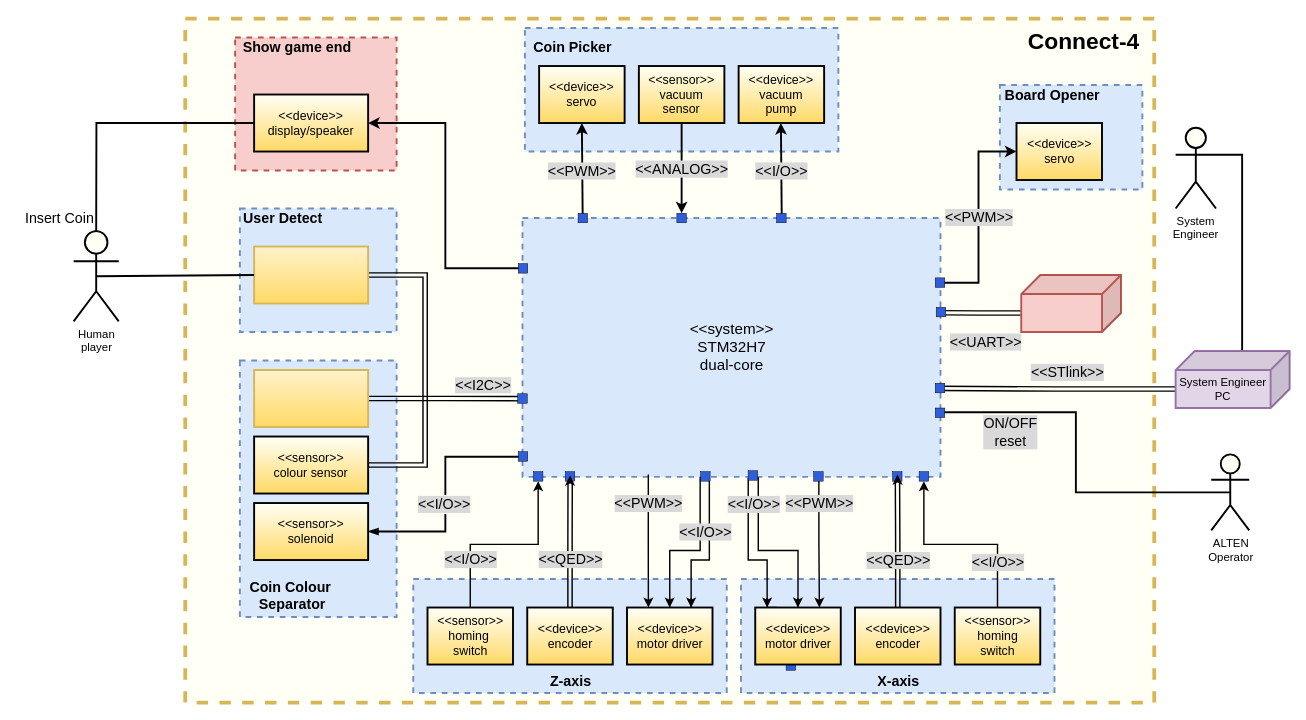
Some shapes in this 1306 by 720 pixel diagram are drawn without their labels. Each missing label, with the centre of its shape:
"<<sensor>> Infra-Red / Photodiode" belongs at (311,274).
"<<sensor>> proxy sensor" belongs at (311,398).
"Raspberry Pi" belongs at (1070,303).
